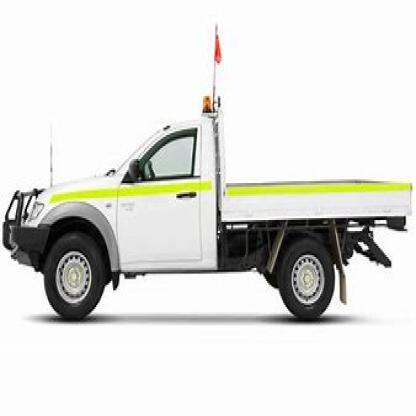light_vehicle: (2, 100, 415, 325)
